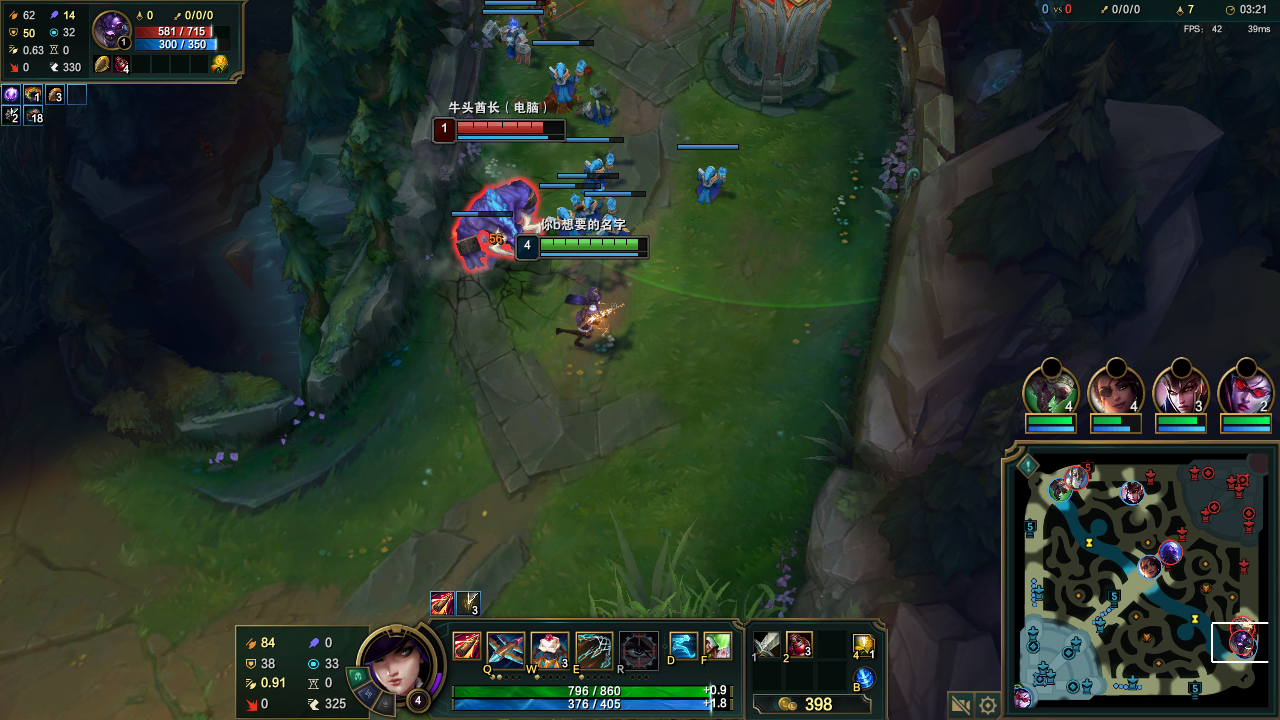DFFYT: (726, 4, 827, 92)
DFYX: (456, 118, 547, 134)
WFXB: (496, 22, 527, 62), (549, 66, 584, 100), (575, 198, 601, 230), (701, 167, 723, 200), (596, 211, 620, 237), (558, 208, 578, 237), (583, 161, 608, 183)
Yita: (1187, 673, 1202, 700)
